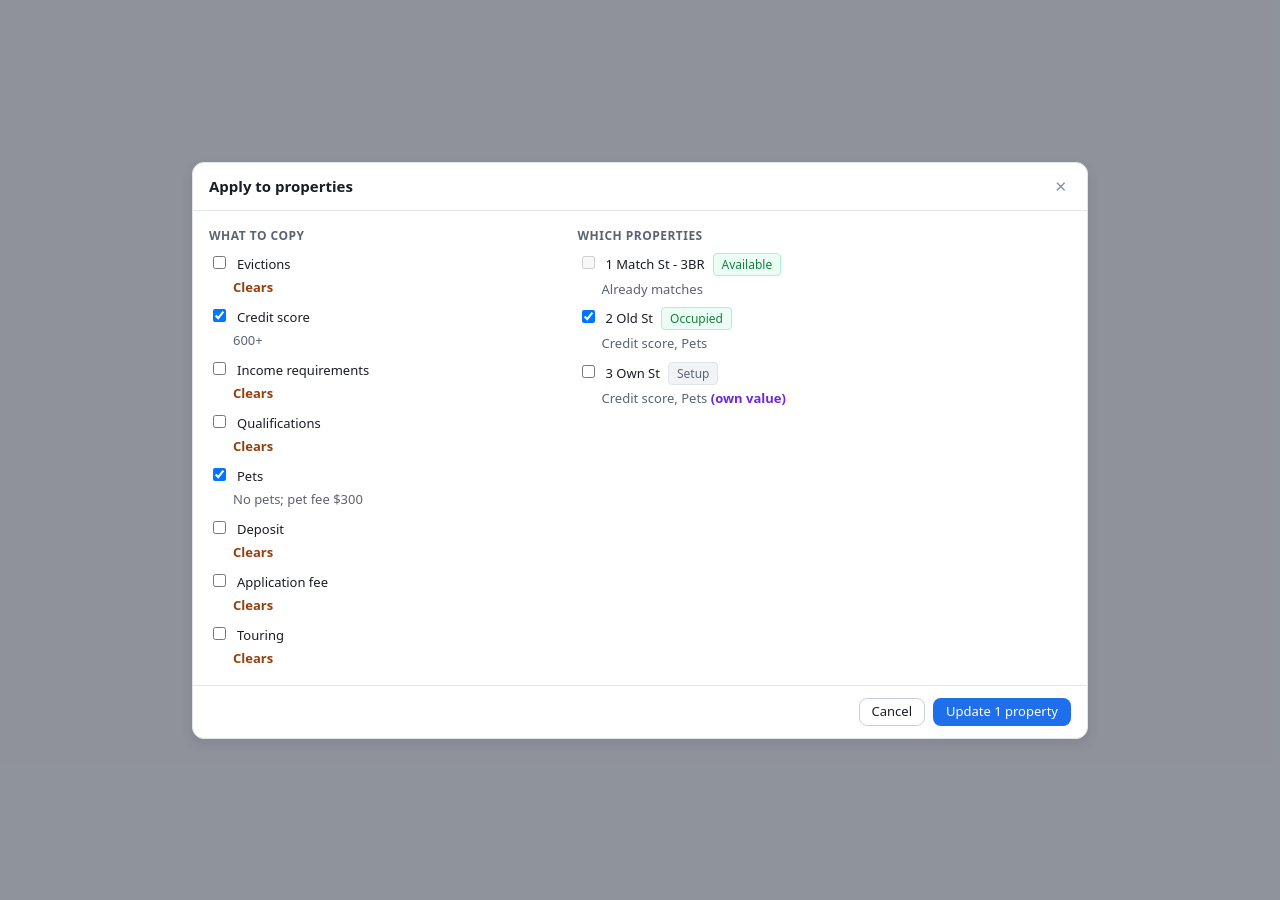
Test case: ApplyRequirementsDialog - Update › a first request answering 409 requirements_changed re-reads and asks for another look
Step 1. Click the button "Update 1 property" → (1002, 712), box top-left (933, 698), bottom-right (1071, 726)
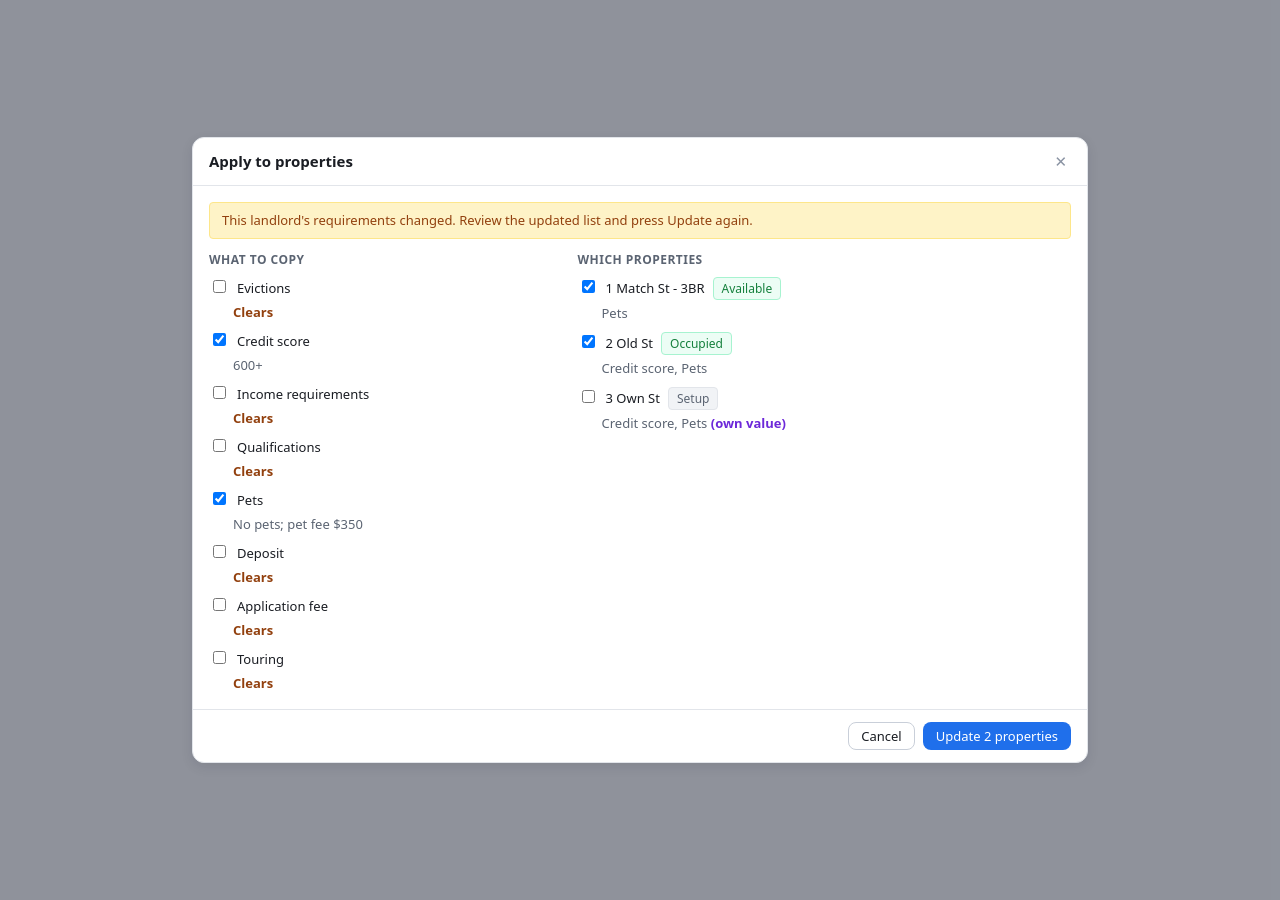
Now the text "This landlord's requirements changed. Review the updated list and press Update again." is shown, box top-left (222, 211), bottom-right (753, 229)
